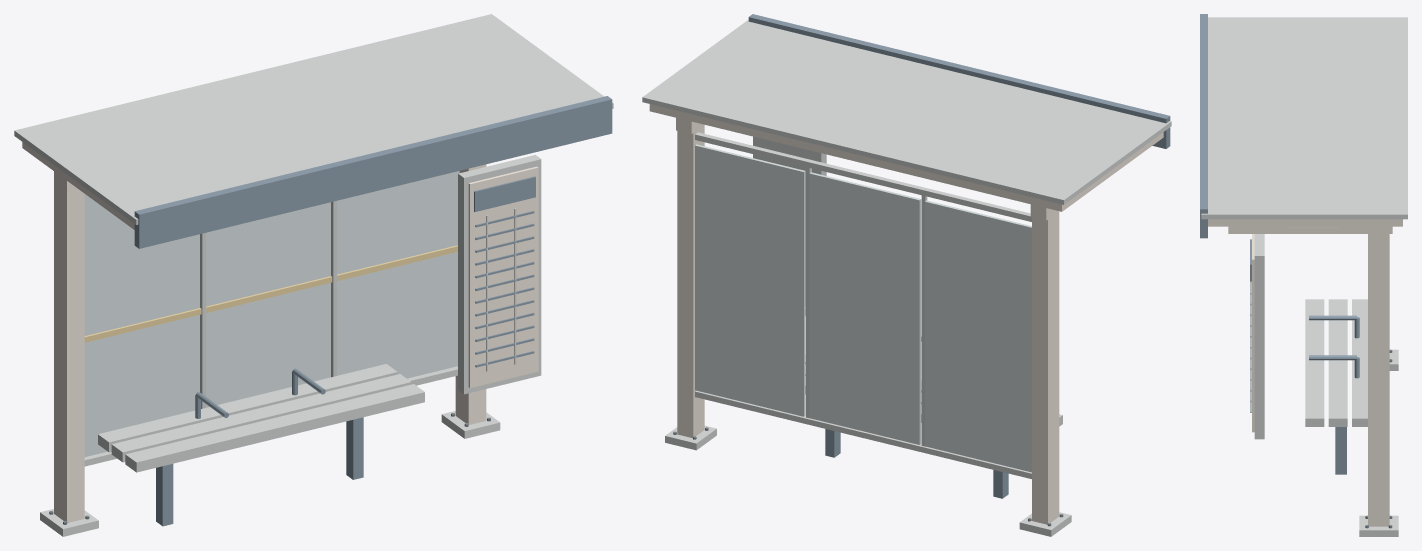
File: prop-busstop.glb
3 renders of one model, left to right at view 1: azimuth 30°, elevation 25°; view 2: azimuth 150°, elevation 25°; view 3: azimuth 270°, elevation 25°, orthographic. The views are drawn at different scales.
Visible parts, largest first — view 1: baseplate_1, post_0; view 2: post_0, baseplate_1; view 3: baseplate_1, post_0.
Part boxes in pixels (left/top/right/bottom): baseplate_1: left=14, top=14, right=613, bottom=536; post_0: left=22, top=142, right=538, bottom=522; post_0: left=649, top=104, right=1163, bottom=524; baseplate_1: left=642, top=14, right=1171, bottom=536; baseplate_1: left=1200, top=14, right=1407, bottom=536; post_0: left=1208, top=219, right=1402, bottom=526.
Size of the model in its own units: 3.21 by 2.54 by 1.43.
2 materials, 2 textured.
